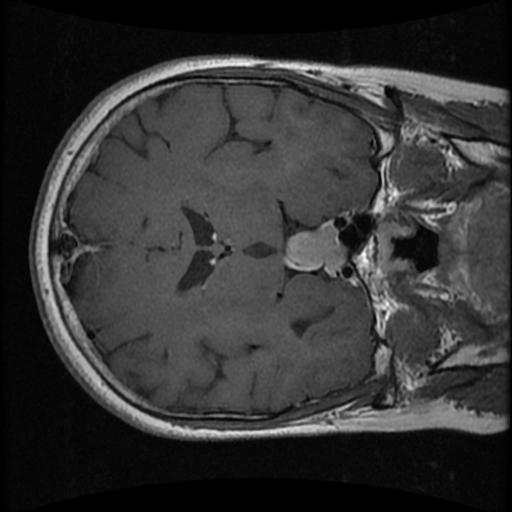pituitary tumour: (286, 222, 344, 270)
